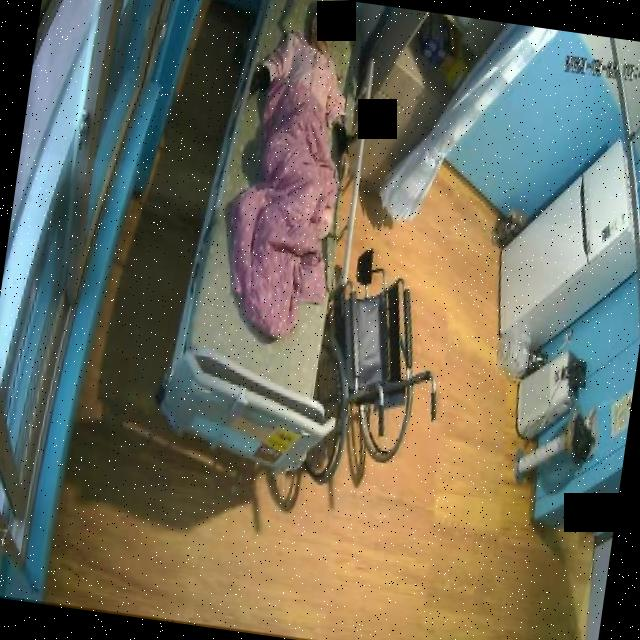bed: (158, 0, 383, 476)
lie: (215, 0, 369, 348)
patient: (242, 0, 368, 156)
